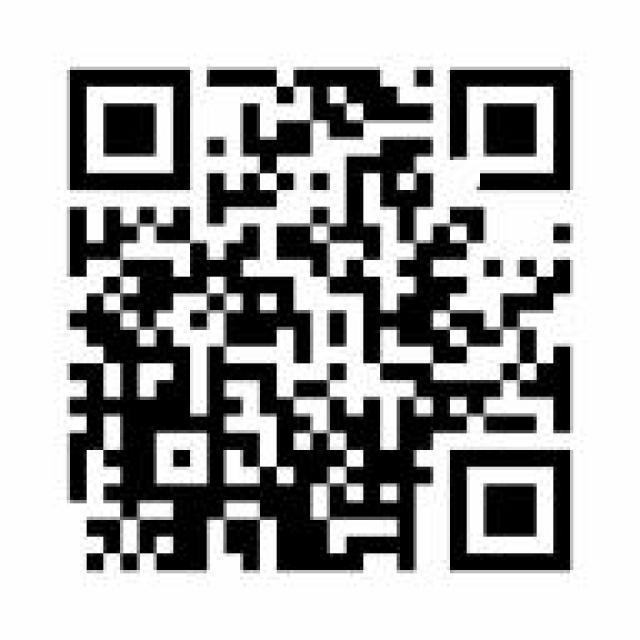qr_code: (68, 68, 573, 572)
